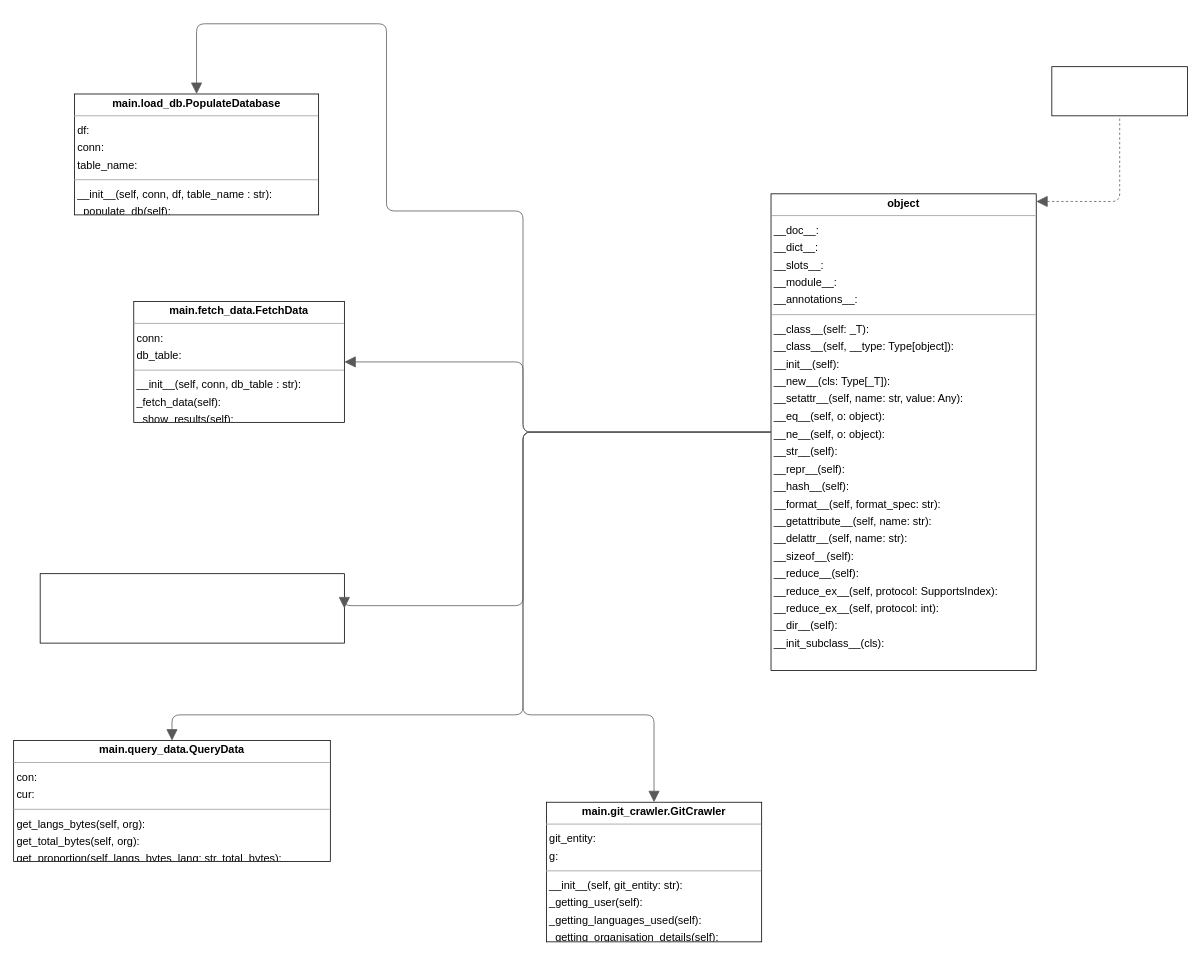
Some shapes in this 1201 by 956 pixel diagram are drawn without their labels. Here are the shapes that lost their labels. From the top down, the centre of each, then its label:
point 1119,91: typing.Hashable __hash__(self):
point 191,608: main.connect_to_db.ConnectToDatabase __init__(self): _connecting_to_db():
